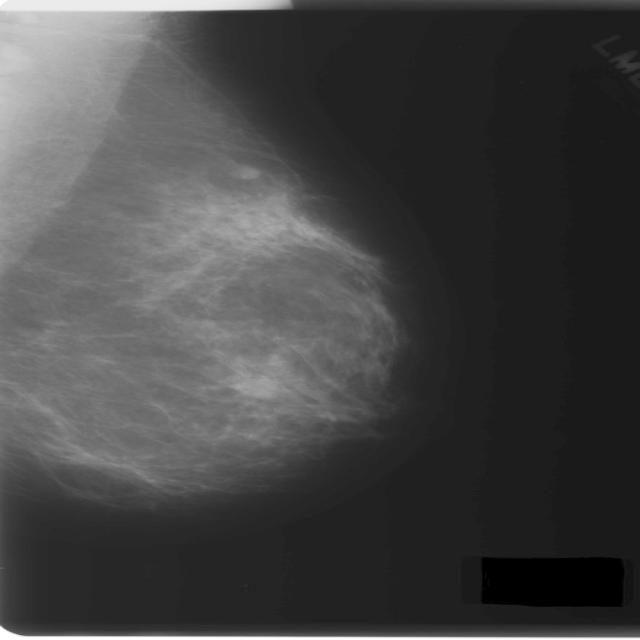tumour: (221, 372, 279, 398)
